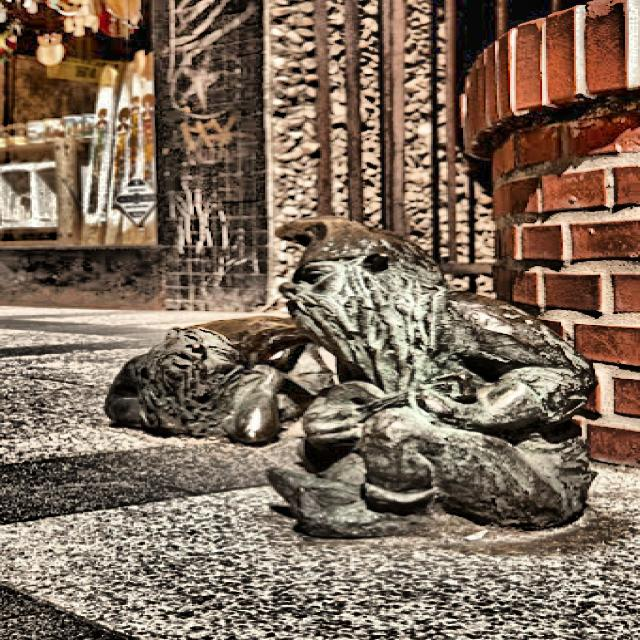Grajek_i_Meloman: (104, 217, 597, 537)
